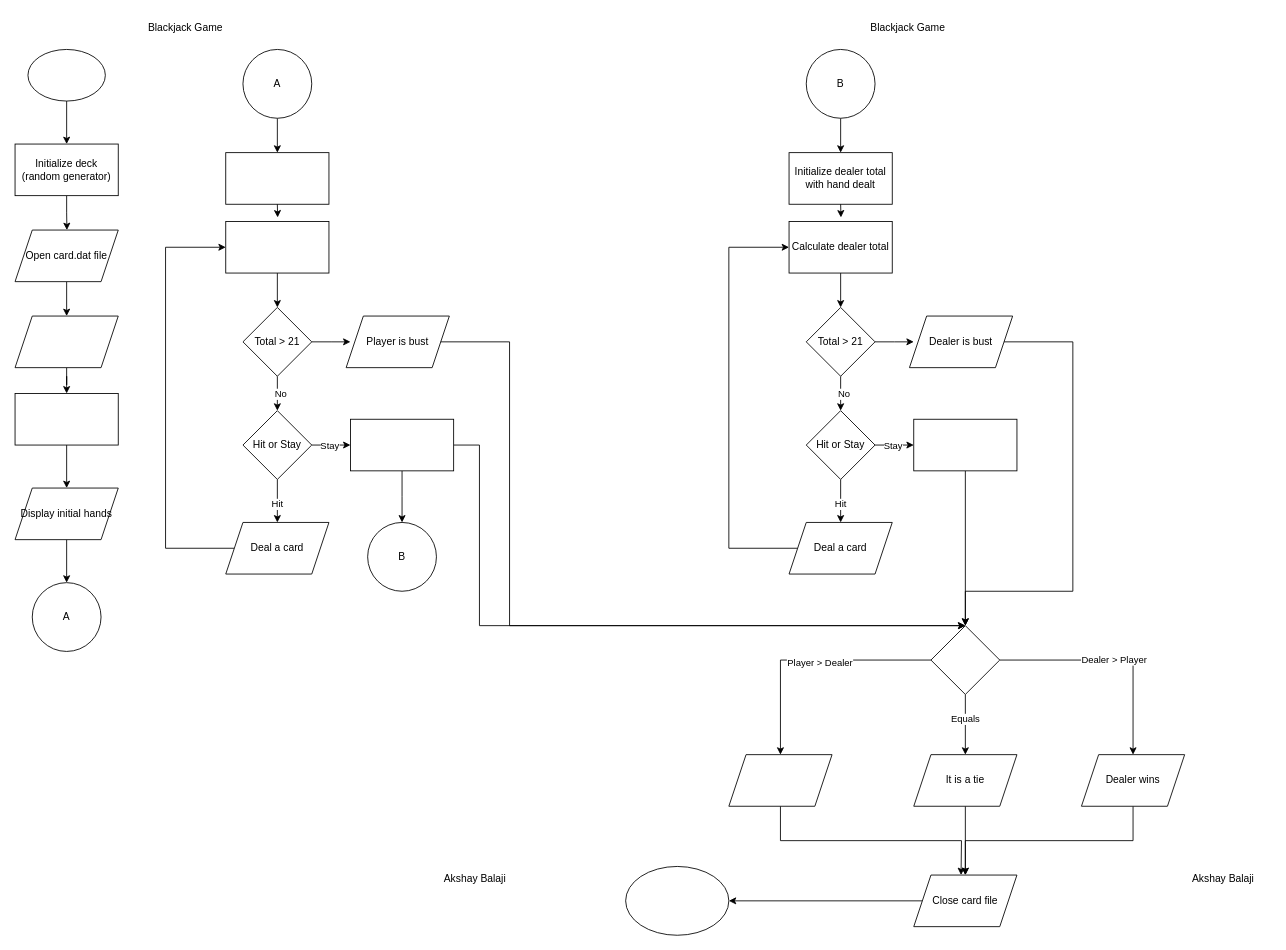
The diagram is 1286 pixels wide and 950 high, and some of its shapes have lost their labels. Each missing label, with the box of its shape:
Calculate player total: (225, 221, 329, 273)
Compare totals: (930, 625, 1000, 694)
Deal player and dealer cards: (14, 393, 118, 445)
End: (625, 866, 729, 935)
Final Dealer Total: (913, 418, 1017, 471)
Final Player Total: (350, 418, 454, 471)
Initialize player total with hand dealt: (225, 152, 329, 204)
Input player name: (14, 315, 118, 368)
Player wins: (728, 754, 832, 806)
Start: (27, 49, 105, 101)
